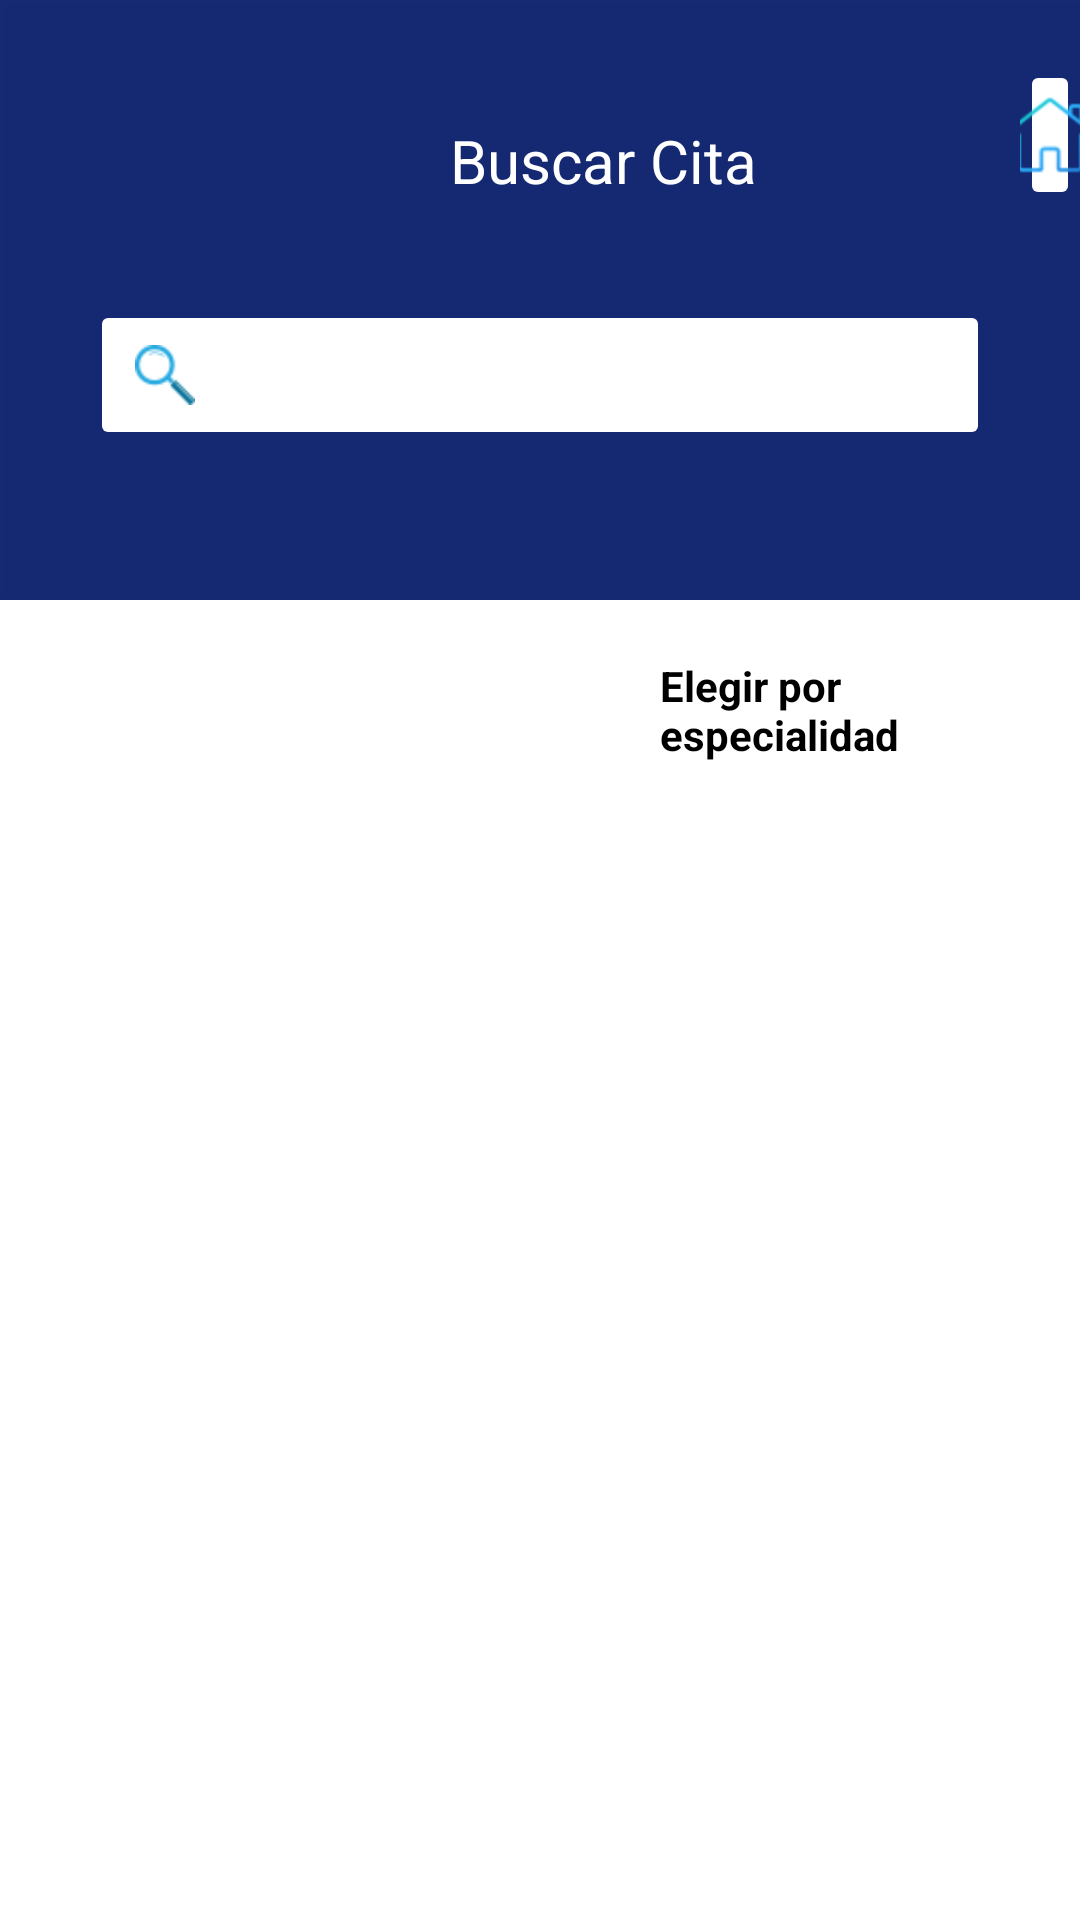

Where icons sit on this 1080×1920 app screen, as {"x1": x1, "y1": y1, "x2": x2, "y2": y2}:
lupa: {"x1": 135, "y1": 345, "x2": 195, "y2": 405}
